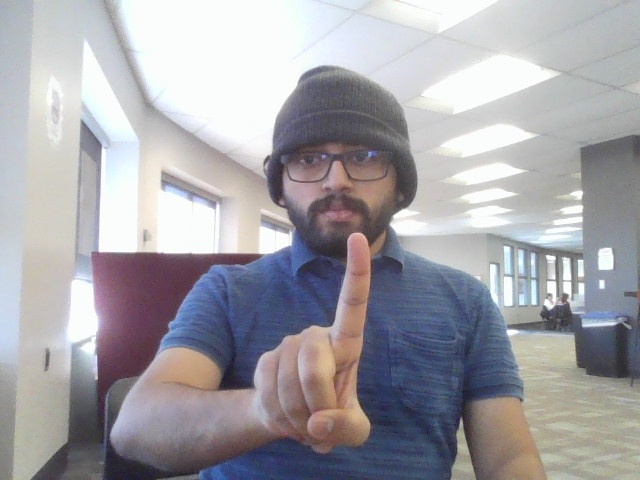one: (248, 224, 390, 462)
